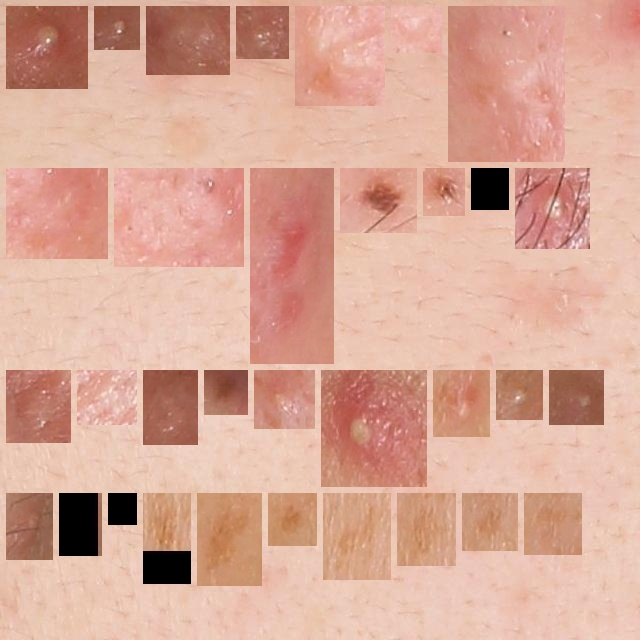hypertrophic_scar: (456, 14, 557, 154), (258, 176, 326, 356), (122, 176, 236, 259), (14, 176, 100, 251), (303, 14, 377, 98), (154, 14, 222, 67), (14, 378, 63, 435), (151, 378, 190, 437), (85, 378, 129, 417), (244, 14, 281, 51), (399, 14, 434, 45)
melasma: (205, 501, 254, 578), (331, 501, 383, 572), (405, 501, 448, 558), (151, 501, 183, 576), (532, 501, 574, 547), (470, 501, 510, 543), (67, 501, 94, 548), (276, 501, 309, 538)
nevus: (348, 176, 409, 225), (431, 176, 457, 208), (212, 378, 240, 407), (479, 176, 501, 202)
pustule: (329, 378, 419, 479), (14, 14, 80, 81), (523, 176, 582, 241), (441, 378, 482, 429), (262, 378, 307, 421), (14, 501, 45, 552), (557, 378, 596, 417), (504, 378, 535, 412), (102, 14, 132, 42)
